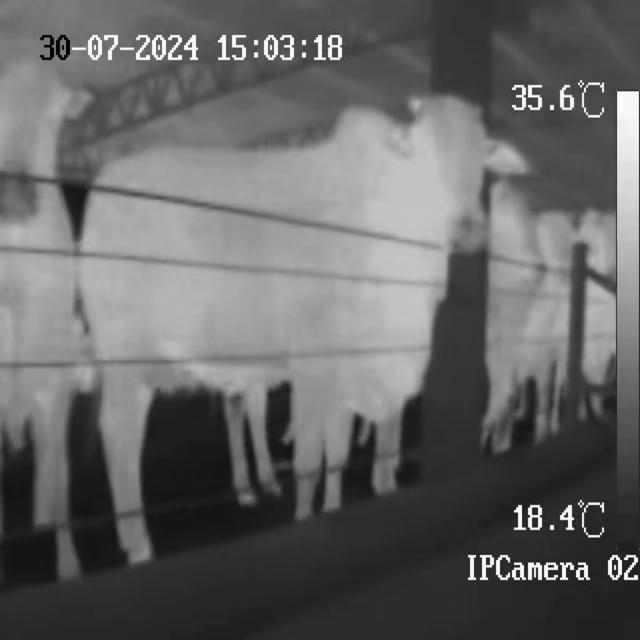head: (410, 97, 492, 255)
